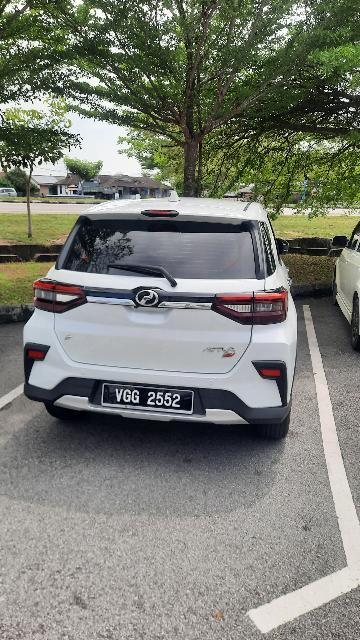License_Plate: (99, 381, 203, 420)
car: (24, 190, 298, 444)
